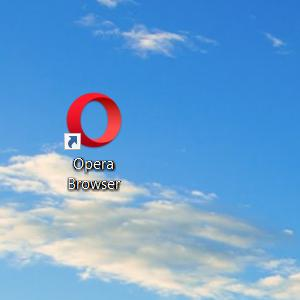opera: (64, 92, 122, 150)
